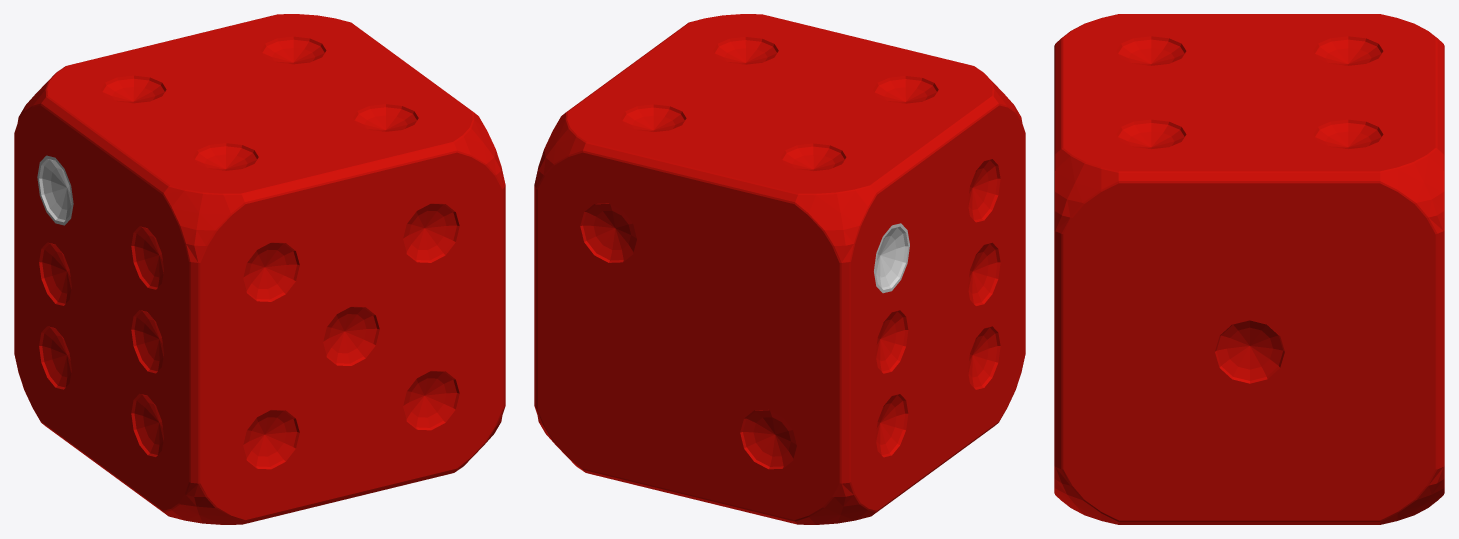
The picture shows the model from 3 angles, left to right: view 1: azimuth 30°, elevation 25°; view 2: azimuth 150°, elevation 25°; view 3: azimuth 270°, elevation 25°; orthographic projection. The views are drawn at different scales.
Parts seen in each view (by area): view 1: Untitled; view 2: Untitled; view 3: Untitled.
Part boxes in pixels (bbox=[...]): Untitled: bbox=[14, 14, 505, 524]; Untitled: bbox=[534, 14, 1025, 524]; Untitled: bbox=[1054, 14, 1444, 524].
Size of the model in its own units: 1 by 1 by 1.
